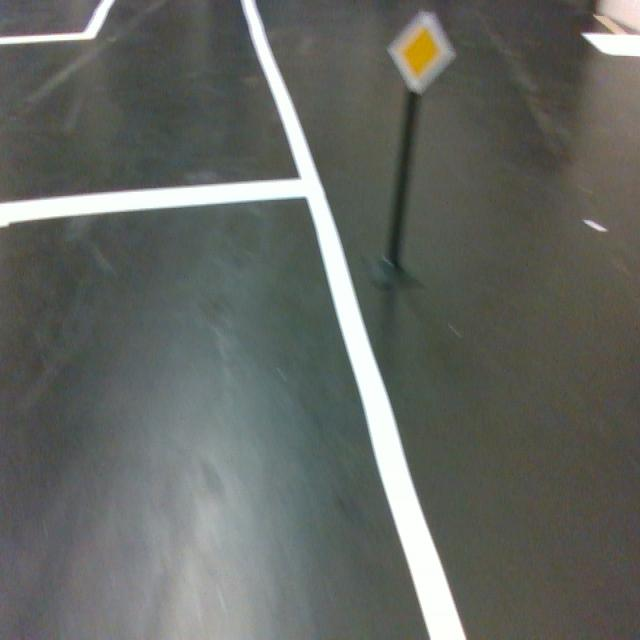priority-sign: (386, 9, 458, 97)
